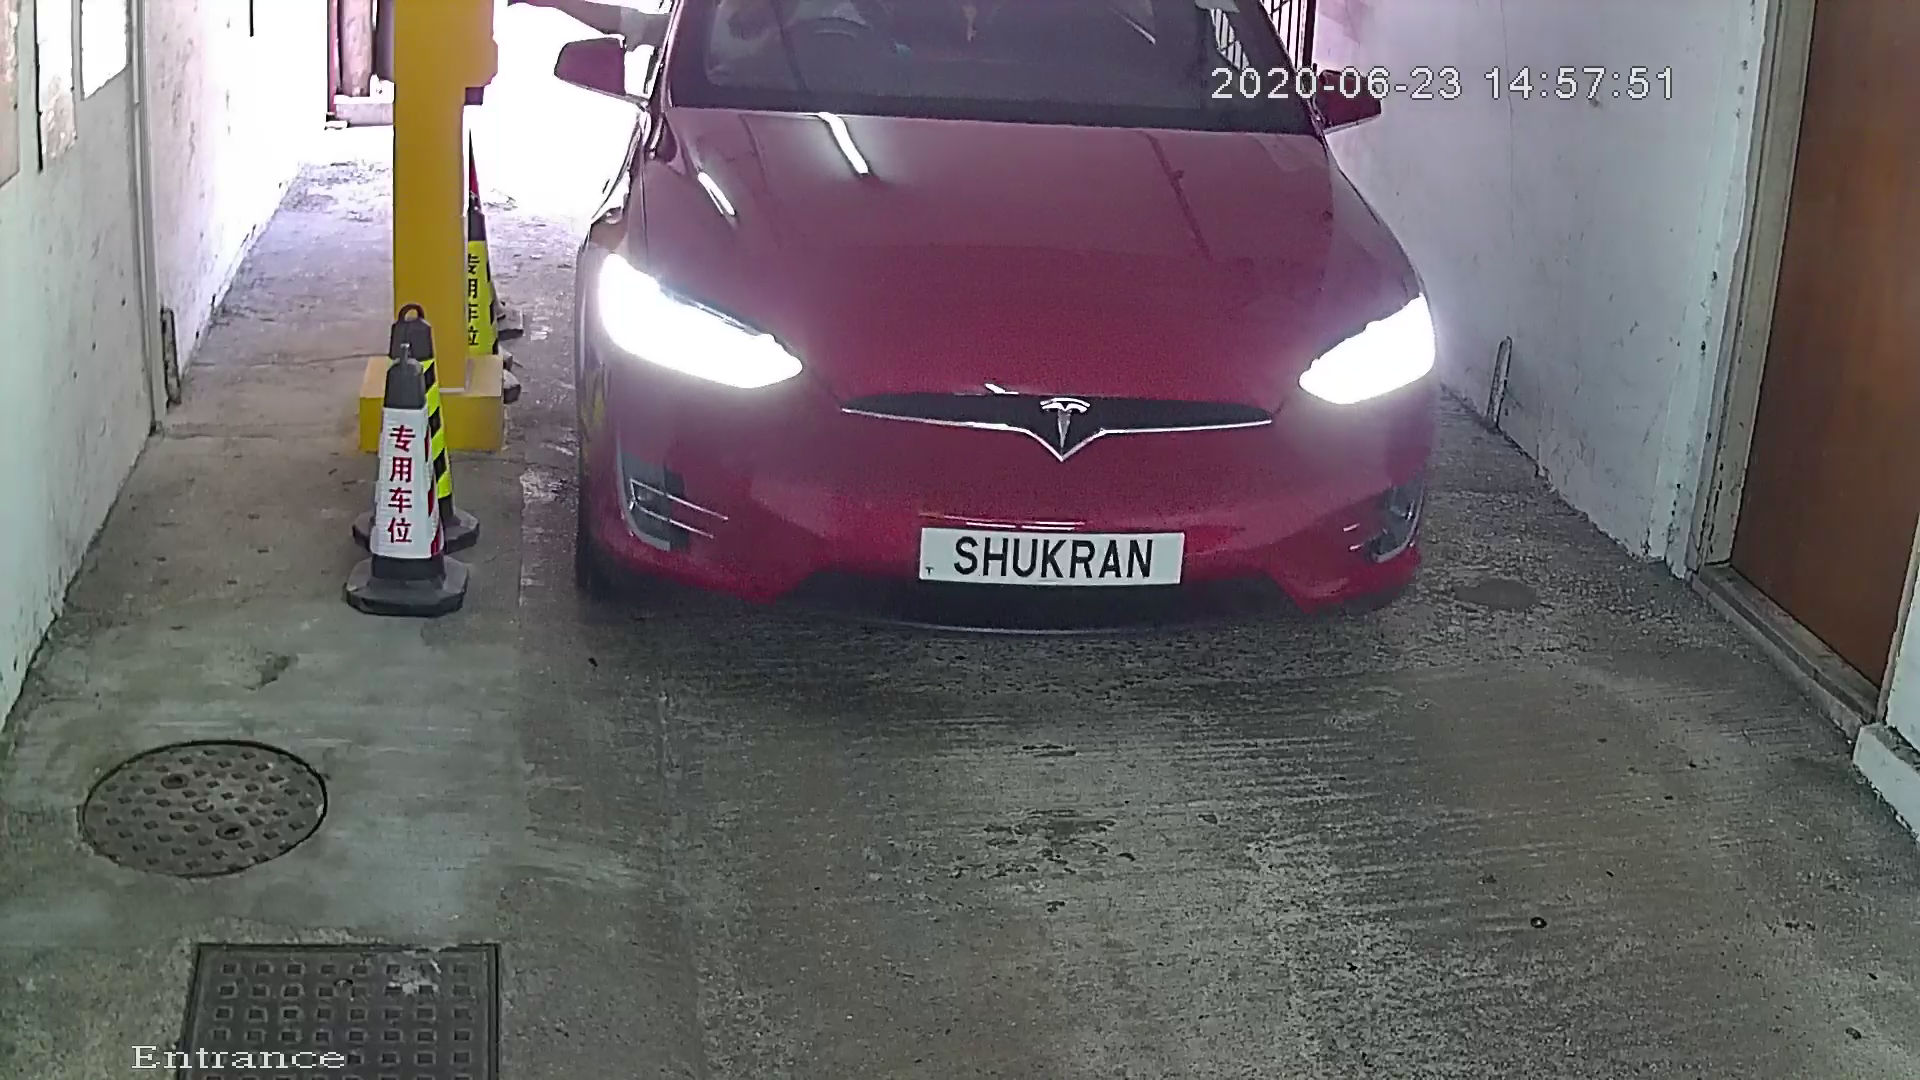privatecar: (524, 1, 1491, 717)
